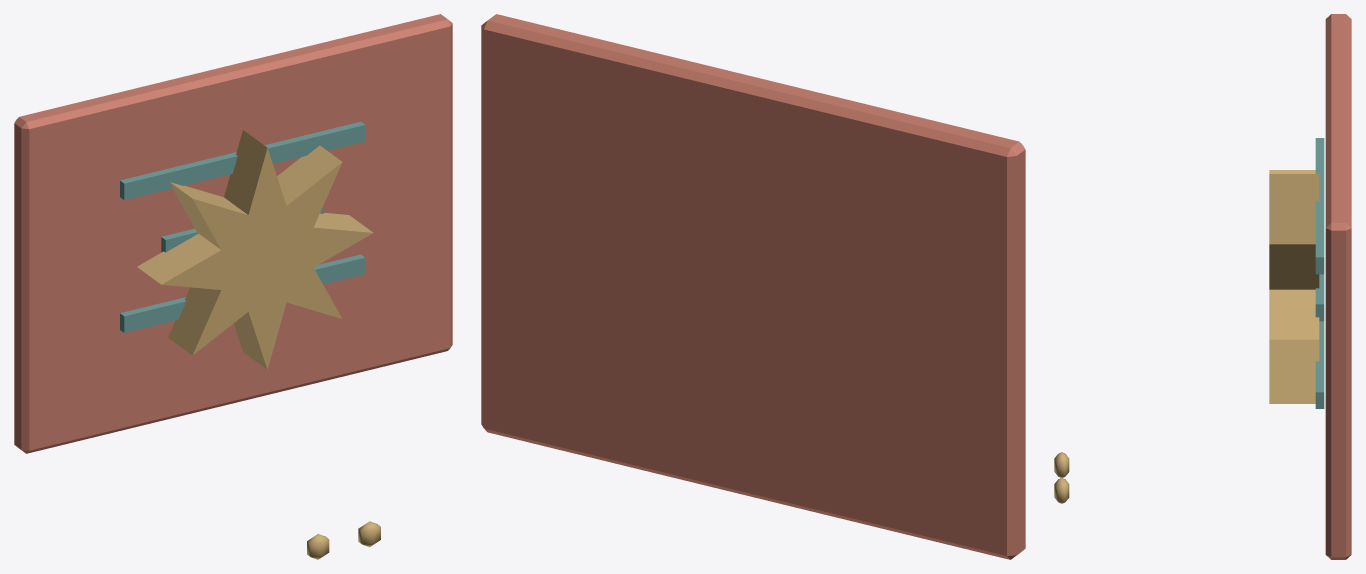
3 renders of one model, left to right at view 1: azimuth 30°, elevation 25°; view 2: azimuth 150°, elevation 25°; view 3: azimuth 270°, elevation 25°, orthographic. The views are drawn at different scales.
Parts seen in each view (by area): view 1: g_s25; view 2: g_s25; view 3: g_s25.
Boxes of the visible parts, bbox=[...] form: g_s25: bbox=[14, 14, 452, 559]; g_s25: bbox=[481, 14, 1025, 559]; g_s25: bbox=[1054, 14, 1351, 559].
Bounding box in the file's own units: 0.2924 × 0.246 × 0.1719.
